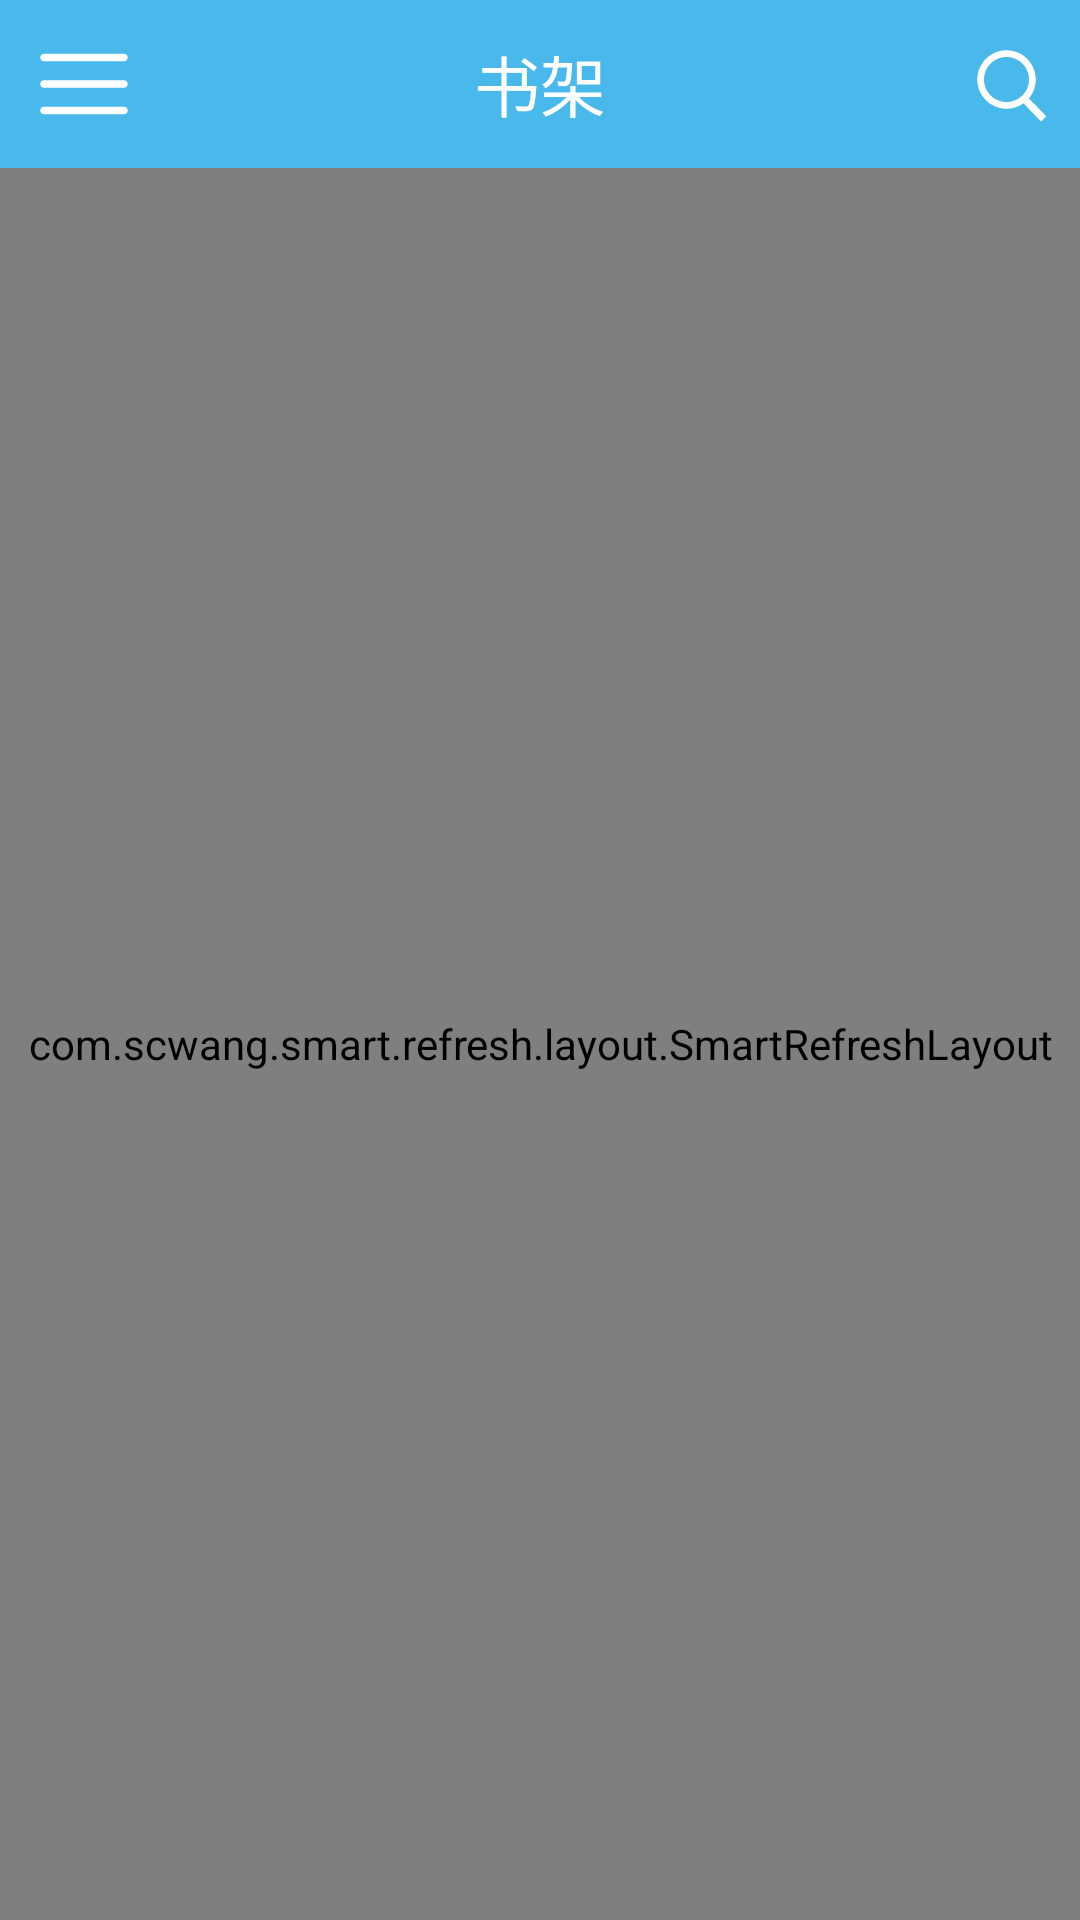

Icons on this 1080 × 1920 Android screen, each with its box as (x1, y1, x2, y2):
搜索: (977, 50, 1046, 122)
